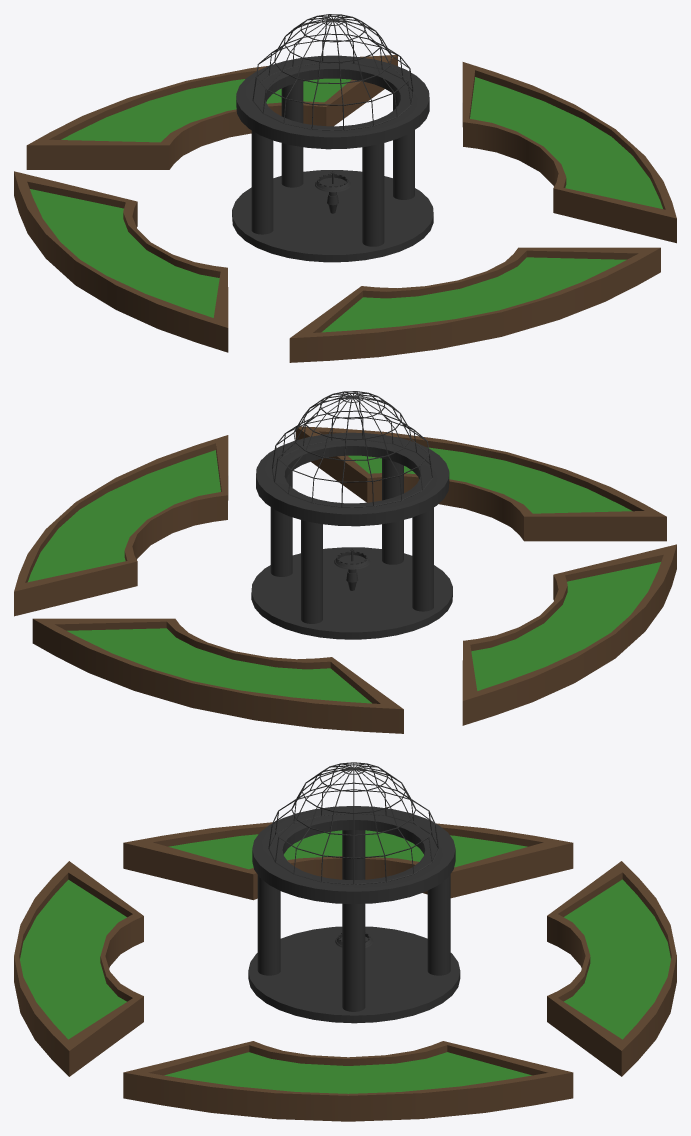
The model's file is Garden.fbx.
3 renders of one model, top to bottom at view 1: azimuth 30°, elevation 25°; view 2: azimuth 150°, elevation 25°; view 3: azimuth 270°, elevation 25°, orthographic. The views are drawn at different scales.
Parts seen in each view (by area): view 1: Cube.022, Cube.024, Cube.025, Cube.023, Cylinder.011, Cylinder.006, Sphere, Cylinder.009, Cylinder.008, Cylinder.010, Cylinder.007; view 2: Cube.023, Cube.025, Cube.024, Cube.022, Cylinder.011, Cylinder.006, Sphere, Cylinder.010, Cylinder.008, Cylinder.009, Cylinder.007; view 3: Cube.025, Cube.022, Cube.023, Cube.024, Cylinder.011, Cylinder.006, Sphere, Cylinder.007, Cylinder.010, Cylinder.009, Cylinder.008.
Part boxes in pixels (x1,y1,x2,y2): Cube.022: [289, 247, 660, 362]; Cube.024: [14, 171, 228, 352]; Cube.025: [462, 62, 676, 243]; Cube.023: [26, 55, 397, 169]; Cylinder.011: [232, 170, 433, 262]; Cylinder.006: [236, 55, 429, 149]; Sphere: [252, 14, 413, 130]; Cylinder.009: [362, 143, 384, 246]; Cylinder.008: [251, 130, 273, 234]; Cylinder.010: [281, 81, 303, 187]; Cylinder.007: [393, 94, 414, 199]; Cube.023: [32, 618, 403, 733]; Cube.025: [14, 435, 228, 616]; Cube.024: [462, 544, 676, 725]; Cube.022: [295, 426, 666, 541]; Cylinder.011: [251, 547, 452, 639]; Cylinder.006: [256, 432, 449, 526]; Sphere: [272, 391, 433, 507]; Cylinder.010: [301, 520, 322, 623]; Cylinder.008: [412, 507, 433, 611]; Cylinder.009: [382, 458, 403, 564]; Cylinder.007: [270, 471, 292, 576]; Cube.025: [123, 1041, 573, 1121]; Cube.022: [14, 861, 143, 1076]; Cube.023: [547, 861, 676, 1076]; Cube.024: [123, 822, 573, 900]; Cylinder.011: [248, 926, 460, 1023]; Cylinder.006: [252, 806, 455, 904]; Sphere: [268, 762, 439, 884]; Cylinder.007: [342, 903, 365, 1011]; Cylinder.010: [427, 874, 450, 975]; Cylinder.009: [257, 875, 280, 975]; Cylinder.008: [342, 830, 365, 879].
Size of the model in its own units: 1698 by 602 by 1720.
